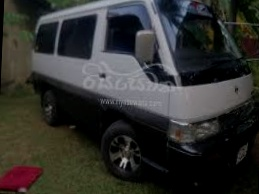van: (26, 0, 259, 194)
